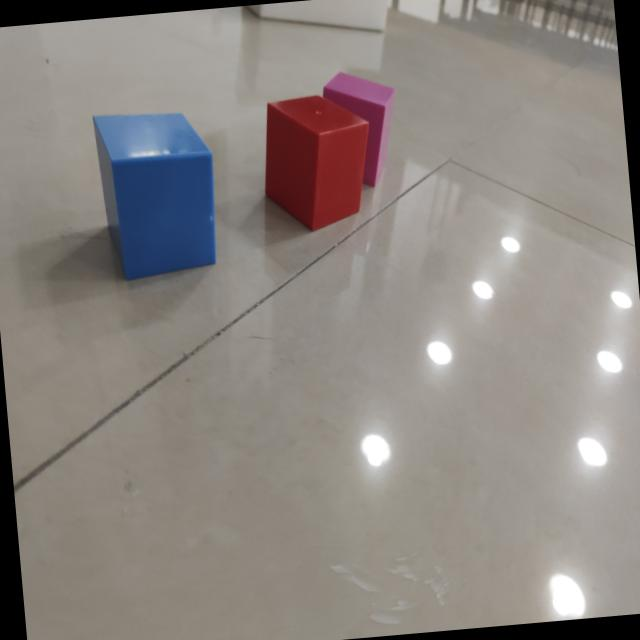blue: (93, 112, 217, 282)
pink: (323, 72, 395, 186)
red: (264, 96, 371, 232)
